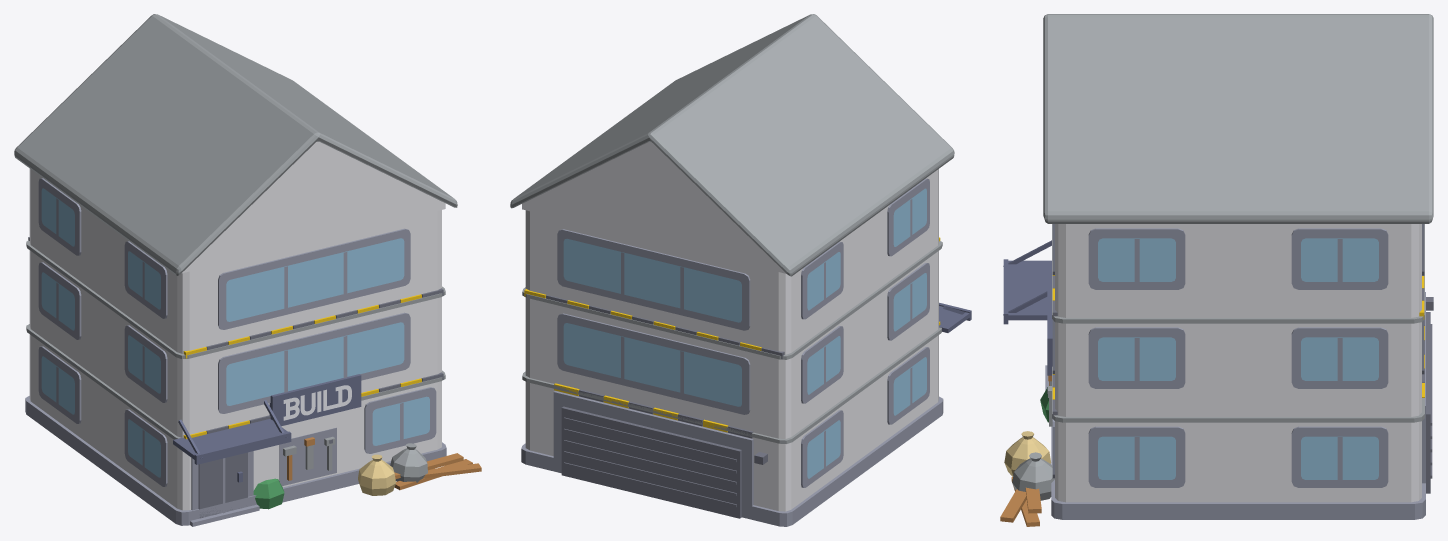
The model's file is shop-construction-1x1-t3-tone-a.glb.
The picture shows the model from 3 angles, left to right: view 1: azimuth 30°, elevation 25°; view 2: azimuth 150°, elevation 25°; view 3: azimuth 270°, elevation 25°; orthographic projection. The views are drawn at different scales.
Parts seen in each view (by area): view 1: shop-construction-1x1-t3-tone-a; view 2: shop-construction-1x1-t3-tone-a; view 3: shop-construction-1x1-t3-tone-a.
Boxes of the visible parts, x1=… form: shop-construction-1x1-t3-tone-a: x1=14, y1=14, x2=481, y2=526; shop-construction-1x1-t3-tone-a: x1=510, y1=14, x2=971, y2=526; shop-construction-1x1-t3-tone-a: x1=1000, y1=14, x2=1433, y2=526.
Size of the model in its own units: 1 by 1.21 by 1.11.
1 material, 1 textured.
